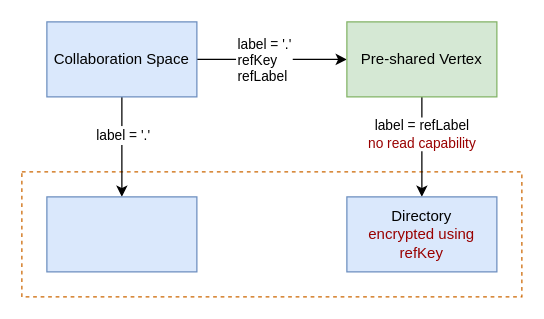
Image size: 544x319. Some labels were removed from this diagram. The box of each missing label's shape, as (x1, y1, x2, y2) in pixels:
Directory: (46, 196, 197, 272)
Merged View: (21, 171, 522, 297)
